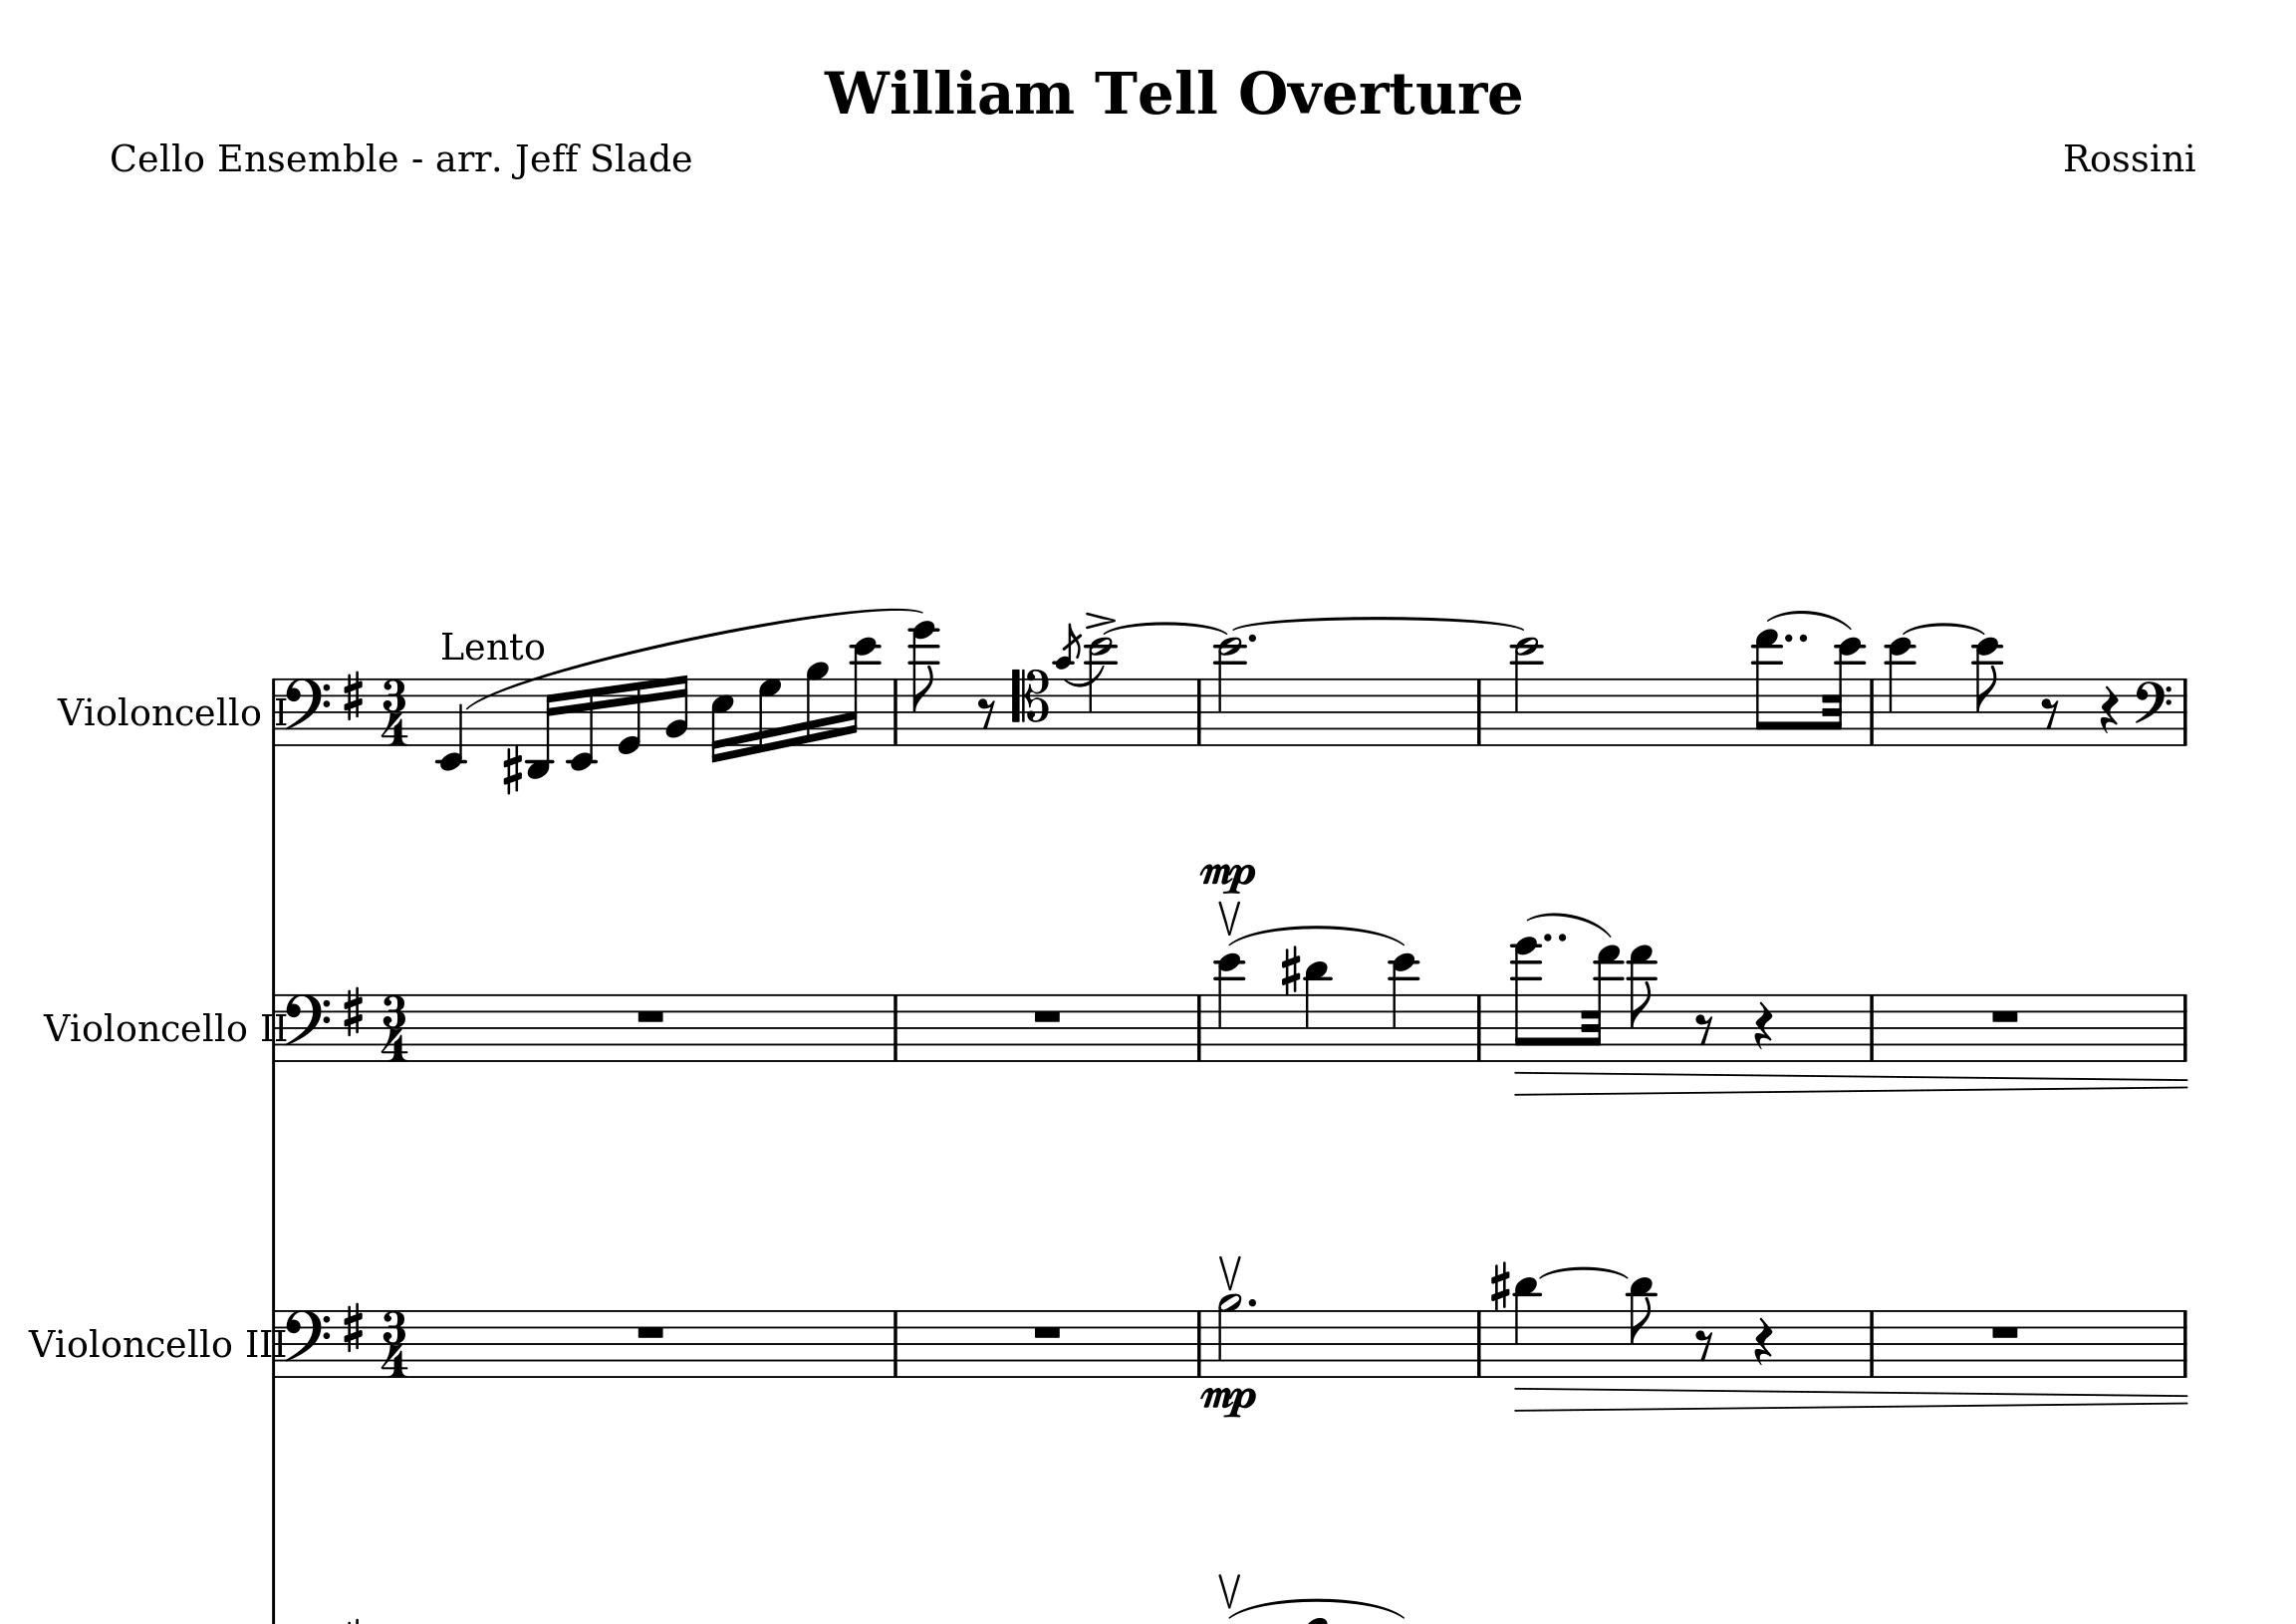16_-2: (567, 677, 596, 772)
16_-3: (525, 677, 559, 780)
16_0: (615, 675, 643, 756)
16_12: (843, 634, 878, 747)
16_2: (664, 673, 689, 747)
16_5: (710, 675, 734, 765)
16_7: (755, 675, 782, 756)
16_9: (805, 659, 827, 749)
2_12: (1084, 634, 1116, 749), (1216, 634, 1245, 749), (1513, 634, 1542, 749)
2_9: (1216, 1292, 1244, 1378)
3: (379, 677, 408, 712), (379, 1308, 408, 1343), (379, 993, 408, 1026)
32_11: (1583, 942, 1621, 1067)
32_12: (1825, 636, 1864, 747)
4: (376, 1026, 411, 1062), (376, 710, 411, 743), (378, 1343, 411, 1376)
4_-2: (436, 675, 466, 772)
4_11: (1303, 958, 1332, 1065), (1513, 1276, 1541, 1381)
4_12: (1885, 636, 1918, 749), (1214, 951, 1245, 1063), (1388, 953, 1419, 1063)
8_11: (1628, 1276, 1657, 1380)
8_12: (1971, 636, 2003, 749)
8_13: (1628, 942, 1658, 1062), (1753, 627, 1781, 750)
8_14: (908, 619, 940, 747), (1513, 937, 1542, 1063)
Accent_above: (1082, 610, 1116, 629)
Acciaccature: (1054, 620, 1084, 743)
Double_dot: (1537, 930, 1570, 944), (1785, 629, 1809, 643)
Fclef: (279, 675, 332, 747), (283, 991, 332, 1063), (285, 1308, 332, 1380), (2131, 677, 2173, 747)
Rests1: (632, 1320, 668, 1341), (1029, 1005, 1066, 1025), (1987, 1005, 2024, 1025), (1987, 1322, 2024, 1341), (632, 1005, 668, 1025), (1029, 1322, 1065, 1341)
Rests4: (1751, 1315, 1774, 1367), (1751, 1000, 1774, 1051), (2099, 684, 2119, 735)
Rests8: (1693, 1011, 1715, 1046), (1693, 1327, 1715, 1362), (977, 696, 996, 731), (2040, 696, 2061, 728)
Sharp: (341, 668, 365, 724), (341, 984, 365, 1039), (341, 1299, 365, 1353), (1279, 944, 1302, 997), (1490, 1260, 1511, 1313), (501, 743, 522, 794)
Single_barline: (267, 995, 286, 1062), (265, 677, 283, 745), (1191, 677, 1209, 743), (1470, 677, 1488, 743), (267, 1309, 285, 1376), (2177, 677, 2192, 745), (887, 677, 903, 743), (2177, 993, 2192, 1060), (2177, 1309, 2192, 1376), (887, 1309, 903, 1376), (1472, 1309, 1488, 1376), (1864, 1309, 1880, 1376), (1864, 678, 1880, 743), (887, 995, 903, 1060), (1191, 995, 1207, 1060), (1472, 995, 1488, 1060), (1864, 995, 1880, 1060), (1191, 1309, 1207, 1374)
Slur: (1230, 615, 1527, 633), (1228, 923, 1405, 949), (1525, 910, 1613, 939), (1764, 608, 1853, 629), (1098, 620, 1230, 634), (1901, 620, 1987, 636), (1537, 1265, 1630, 1280), (1063, 666, 1105, 687)
Tensor_Cclef: (1008, 666, 1051, 747)
TimeSig: (378, 677, 409, 747), (379, 991, 409, 1062), (379, 1308, 408, 1378)
Tremolo_bar: (1216, 1250, 1244, 1292), (1216, 1568, 1244, 1608), (1216, 898, 1244, 935)
dot: (1244, 1294, 1258, 1308), (1245, 631, 1258, 645)
mp: (1198, 1381, 1258, 1422), (1198, 859, 1258, 896)
